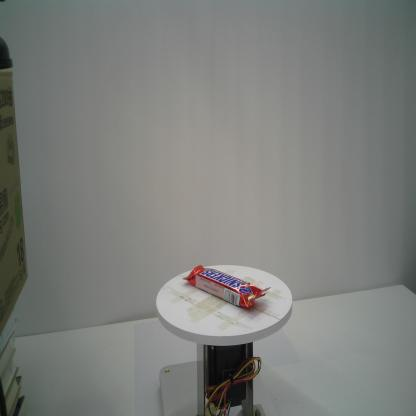Chocolate: (181, 264, 270, 308)
